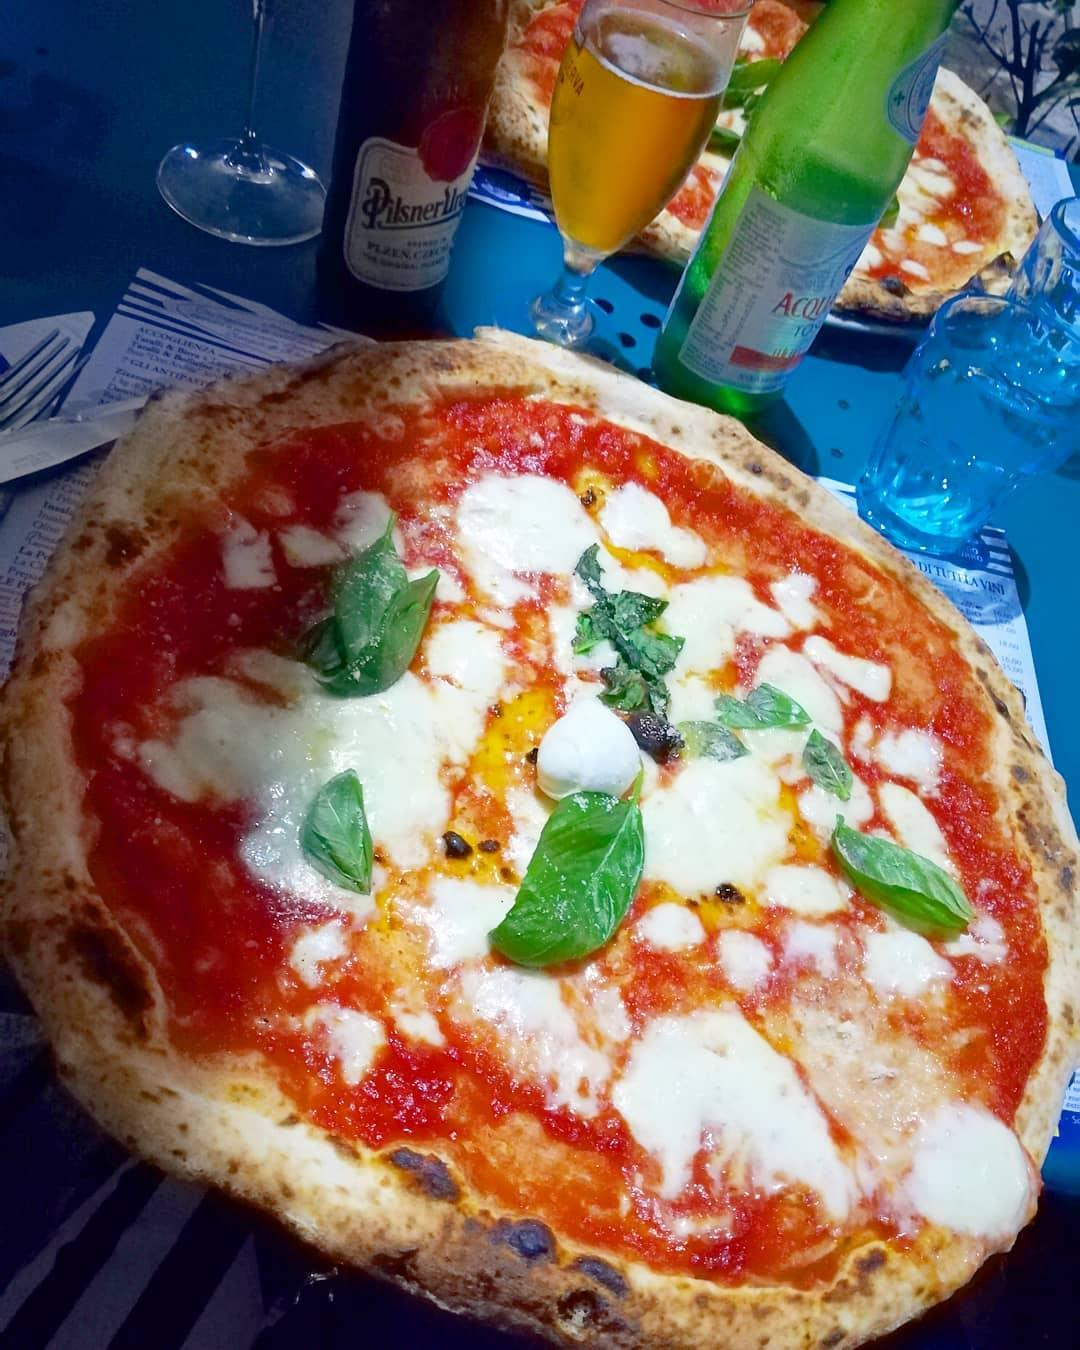Basil: (494, 786, 655, 964), (561, 555, 680, 726), (311, 541, 444, 693), (825, 819, 989, 937), (701, 676, 853, 800), (285, 764, 388, 888)
Cheese: (435, 886, 649, 1119), (663, 981, 843, 1180), (206, 693, 466, 803), (661, 563, 851, 690), (663, 768, 797, 911), (900, 1113, 1032, 1242), (463, 484, 603, 586), (526, 695, 642, 788)
Pizza: (21, 333, 1080, 1348), (486, 0, 1045, 339)
